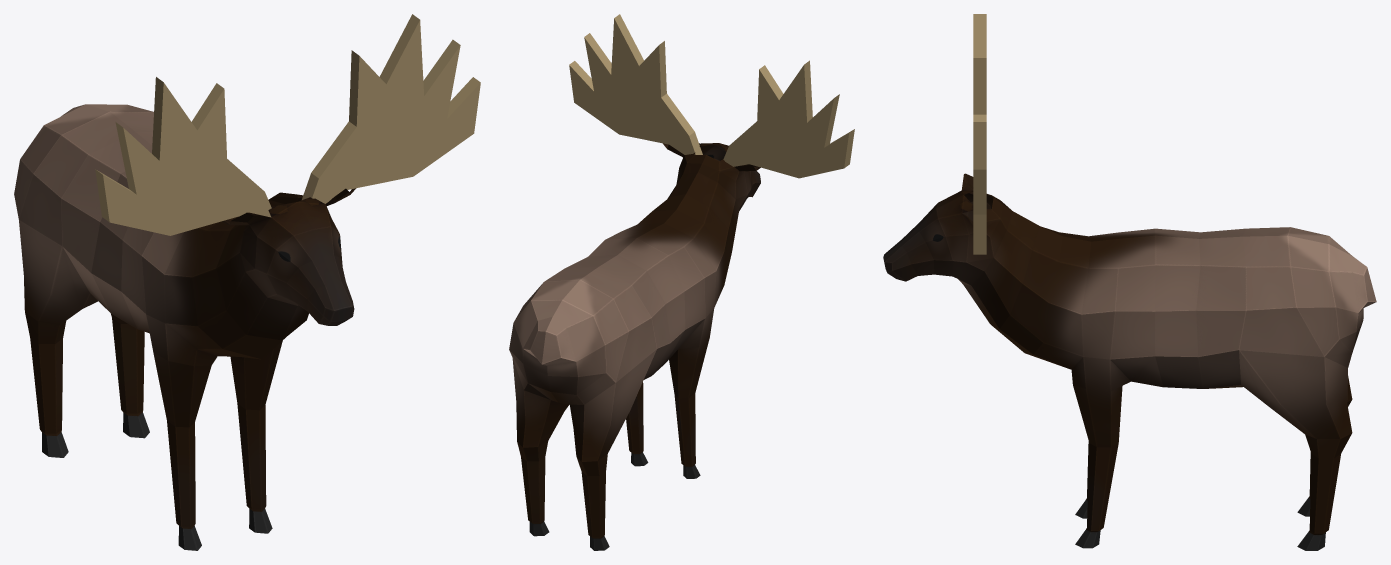
Rendered from Moose.fbx.
3 views of the same model, side by side, from view 1: azimuth 30°, elevation 25°; view 2: azimuth 150°, elevation 25°; view 3: azimuth 270°, elevation 25° (orthographic). The views are drawn at different scales.
Visible parts, largest first — view 1: Elk_mesh, Moose palmate antler.001, Moose palmate antler; view 2: Elk_mesh, Moose palmate antler.001, Moose palmate antler; view 3: Elk_mesh, Moose palmate antler.001, Moose palmate antler.
Boxes of the visible parts, x1,y1,x2,y2 form: Elk_mesh: [14, 104, 355, 550]; Moose palmate antler.001: [302, 14, 480, 203]; Moose palmate antler: [95, 77, 271, 235]; Elk_mesh: [509, 143, 760, 550]; Moose palmate antler.001: [569, 14, 702, 154]; Moose palmate antler: [723, 60, 854, 178]; Elk_mesh: [883, 173, 1376, 550]; Moose palmate antler.001: [973, 114, 986, 254]; Moose palmate antler: [973, 14, 986, 114].
Bounding box in the file's own units: 1125 × 1520 × 1473.
Materials: 2 (1 with a texture image).
